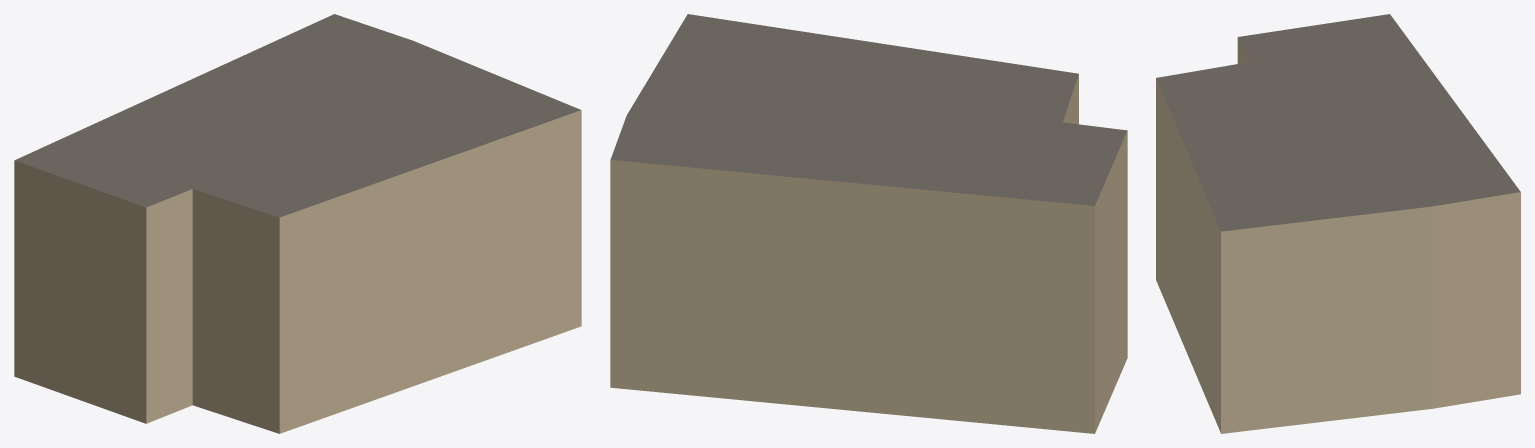
The picture shows the model from 3 angles, left to right: view 1: azimuth 30°, elevation 25°; view 2: azimuth 150°, elevation 25°; view 3: azimuth 270°, elevation 25°; orthographic projection. The views are drawn at different scales.
Parts seen in each view (by area): view 1: HP-w1153638506; view 2: HP-w1153638506; view 3: HP-w1153638506.
Part boxes in pixels (x1,y1,x2,y2): HP-w1153638506: (14, 14, 581, 433); HP-w1153638506: (610, 14, 1127, 433); HP-w1153638506: (1156, 14, 1520, 433).
Bounding box in the file's own units: 45.67 × 19.8 × 32.34.
